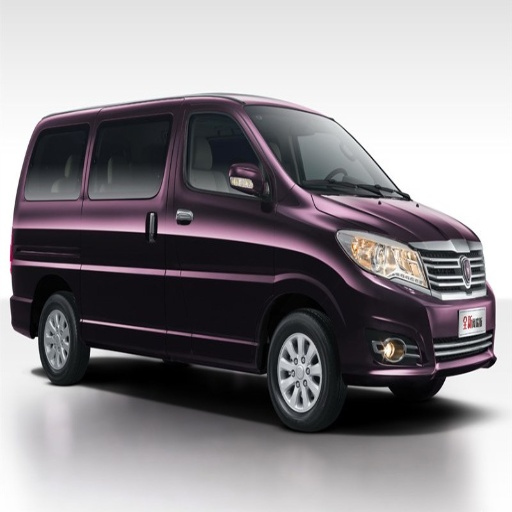front_bumper: (336, 240, 495, 388)
front_right_door: (156, 104, 274, 360)
front_right_light: (337, 229, 424, 287)
trunk: (24, 202, 73, 299)
